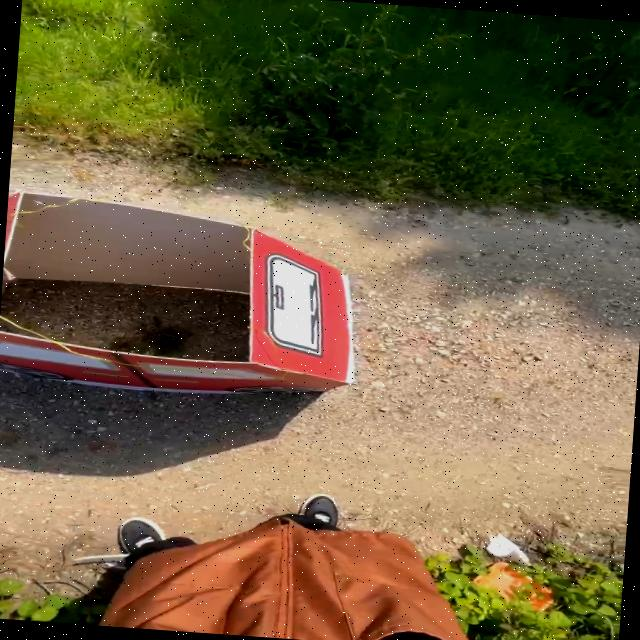red_car: (0, 171, 402, 463)
